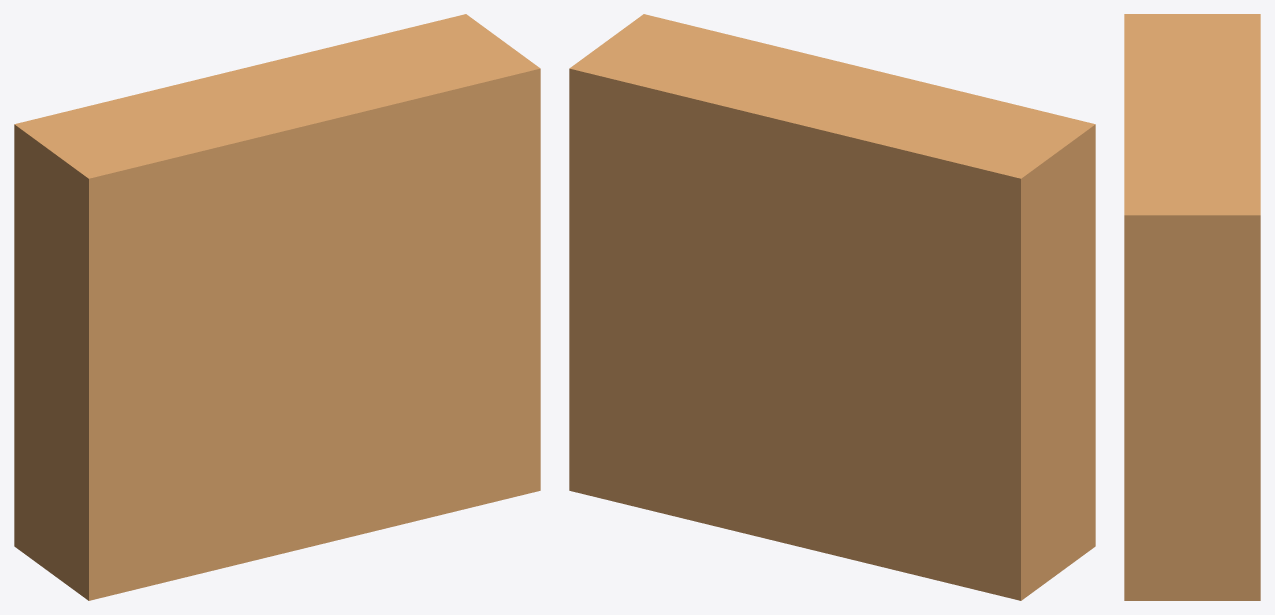
File: prop_console_box.gltf
3 renders of one model, left to right at view 1: azimuth 30°, elevation 25°; view 2: azimuth 150°, elevation 25°; view 3: azimuth 270°, elevation 25°, orthographic. The views are drawn at different scales.
Visible parts, largest first — view 1: ConsoleBox; view 2: ConsoleBox; view 3: ConsoleBox.
Part boxes in pixels (x1,y1,x2,y2): ConsoleBox: (14, 14, 540, 600); ConsoleBox: (569, 14, 1095, 600); ConsoleBox: (1124, 14, 1260, 600).
Bounding box in the file's own units: 0.28 × 0.25 × 0.08.
